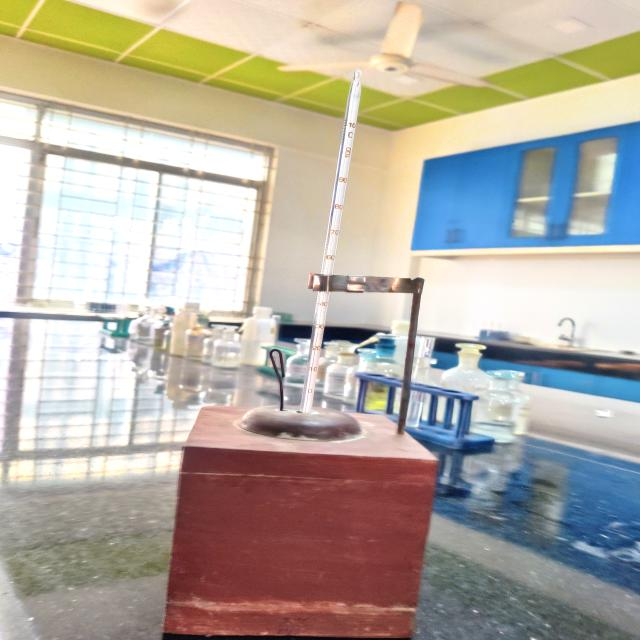Calorimeter: (130, 30, 495, 640)
